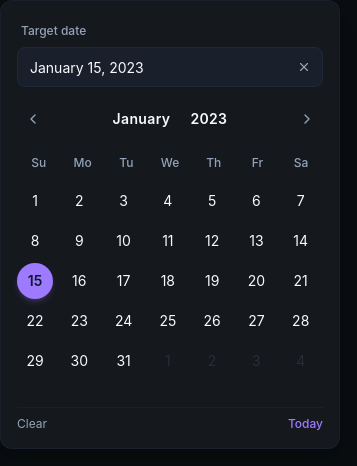
Test case: Calendar Component › navigates next month
Click the button with class "lucide-chevron-right" at (307, 119), box [295,107,319,131]
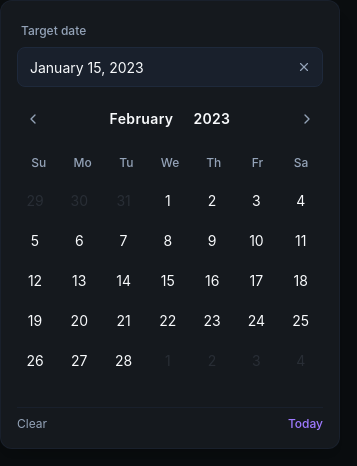
Expected: the button "2023" is shown, [185,107,238,131]
Now the button "February" is shown, box [102,107,181,131]
